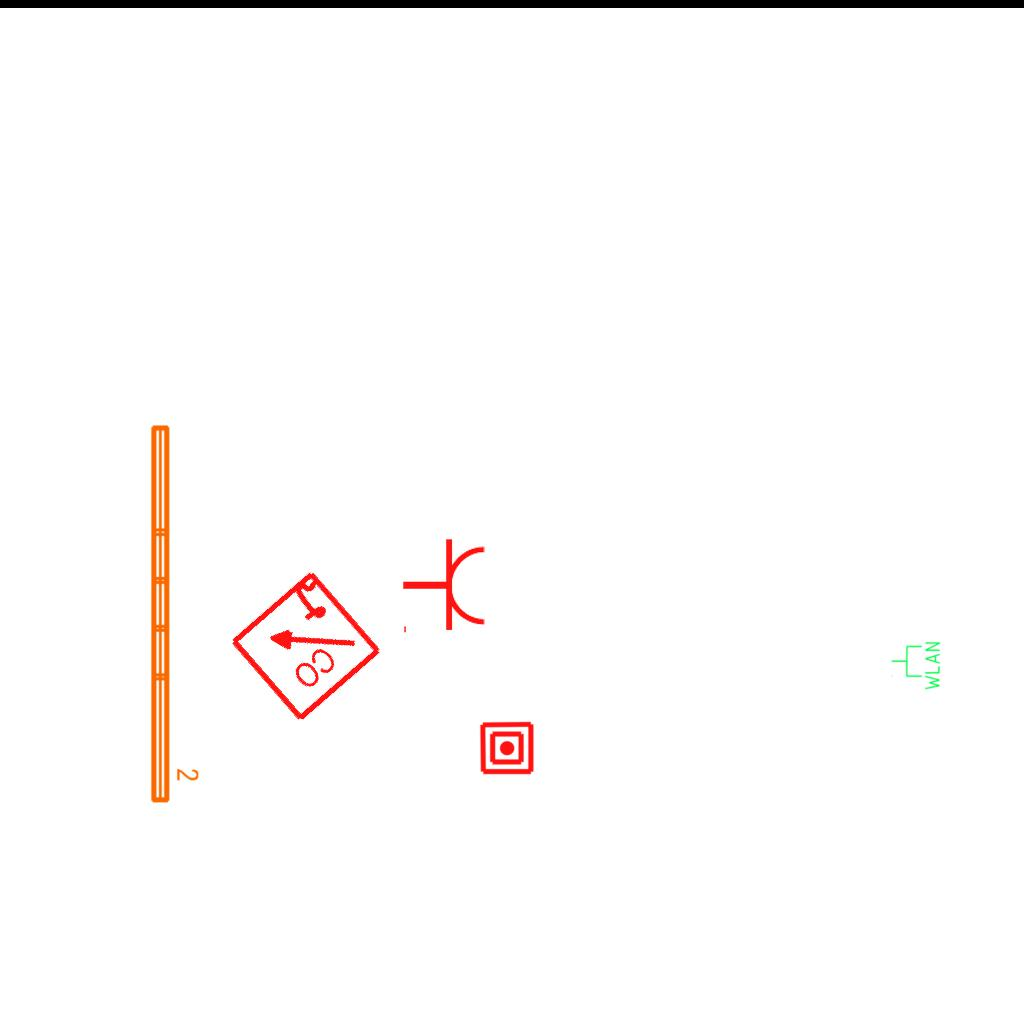Ambulanz_Pendelleuchte_LED: (145, 420, 201, 807)
NAM-Nichtautomatischer_Melder: (479, 720, 535, 776)
ROA_Rauchmelder_optisch_mit_Signalgeber_(Sockelsirene): (224, 565, 385, 726)
Schukosteckdose_einfach: (401, 537, 488, 637)
WLAN: (890, 640, 942, 692)
